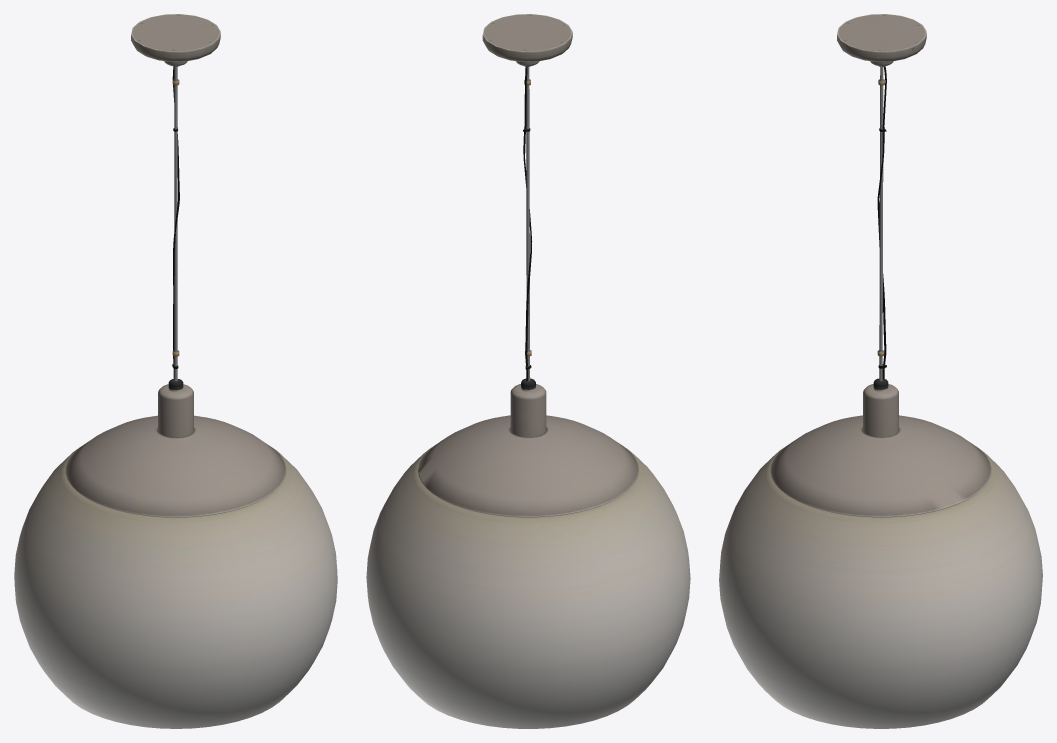
The model's file is modern_ceiling_lamp_01.glb.
3 renders of one model, left to right at view 1: azimuth 30°, elevation 25°; view 2: azimuth 150°, elevation 25°; view 3: azimuth 270°, elevation 25°, orthographic.
Visible parts, largest first — view 1: modern_ceiling_lamp_01; view 2: modern_ceiling_lamp_01; view 3: modern_ceiling_lamp_01.
Boxes of the visible parts, bbox=[...] form: modern_ceiling_lamp_01: bbox=[14, 14, 337, 728]; modern_ceiling_lamp_01: bbox=[366, 14, 690, 728]; modern_ceiling_lamp_01: bbox=[719, 14, 1042, 728].
Size of the model in its own units: 0.4317 by 0.9516 by 0.4317.
2 materials, 2 textured.
